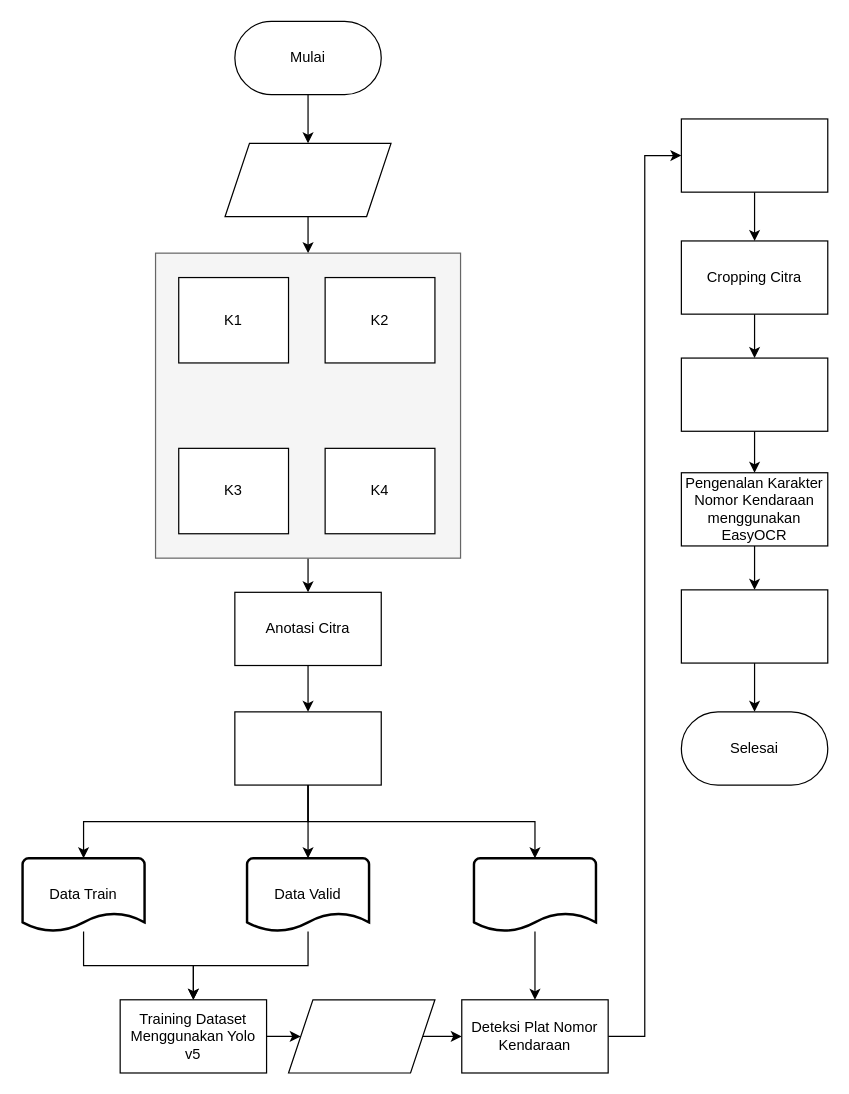
This 849x1094 diagram has some shape labels left out. The shapes that lost their labels are listed below. From the top down, each one's box as (x1, y1, x2, y2) in pixels, then its label:
(680, 118, 828, 192): Bounding Box
(224, 142, 391, 217): Dataset Plat Nomor Kendaraan
(680, 357, 828, 431): Konversi Menjadi Black & White
(680, 589, 828, 663): Output Berupa Cropping Citra & Hasil Pengenalan
(234, 711, 381, 785): Splitting Data
(472, 856, 597, 932): Data Test
(287, 999, 435, 1073): Mendapatkan Yolo Model (best.pt)
